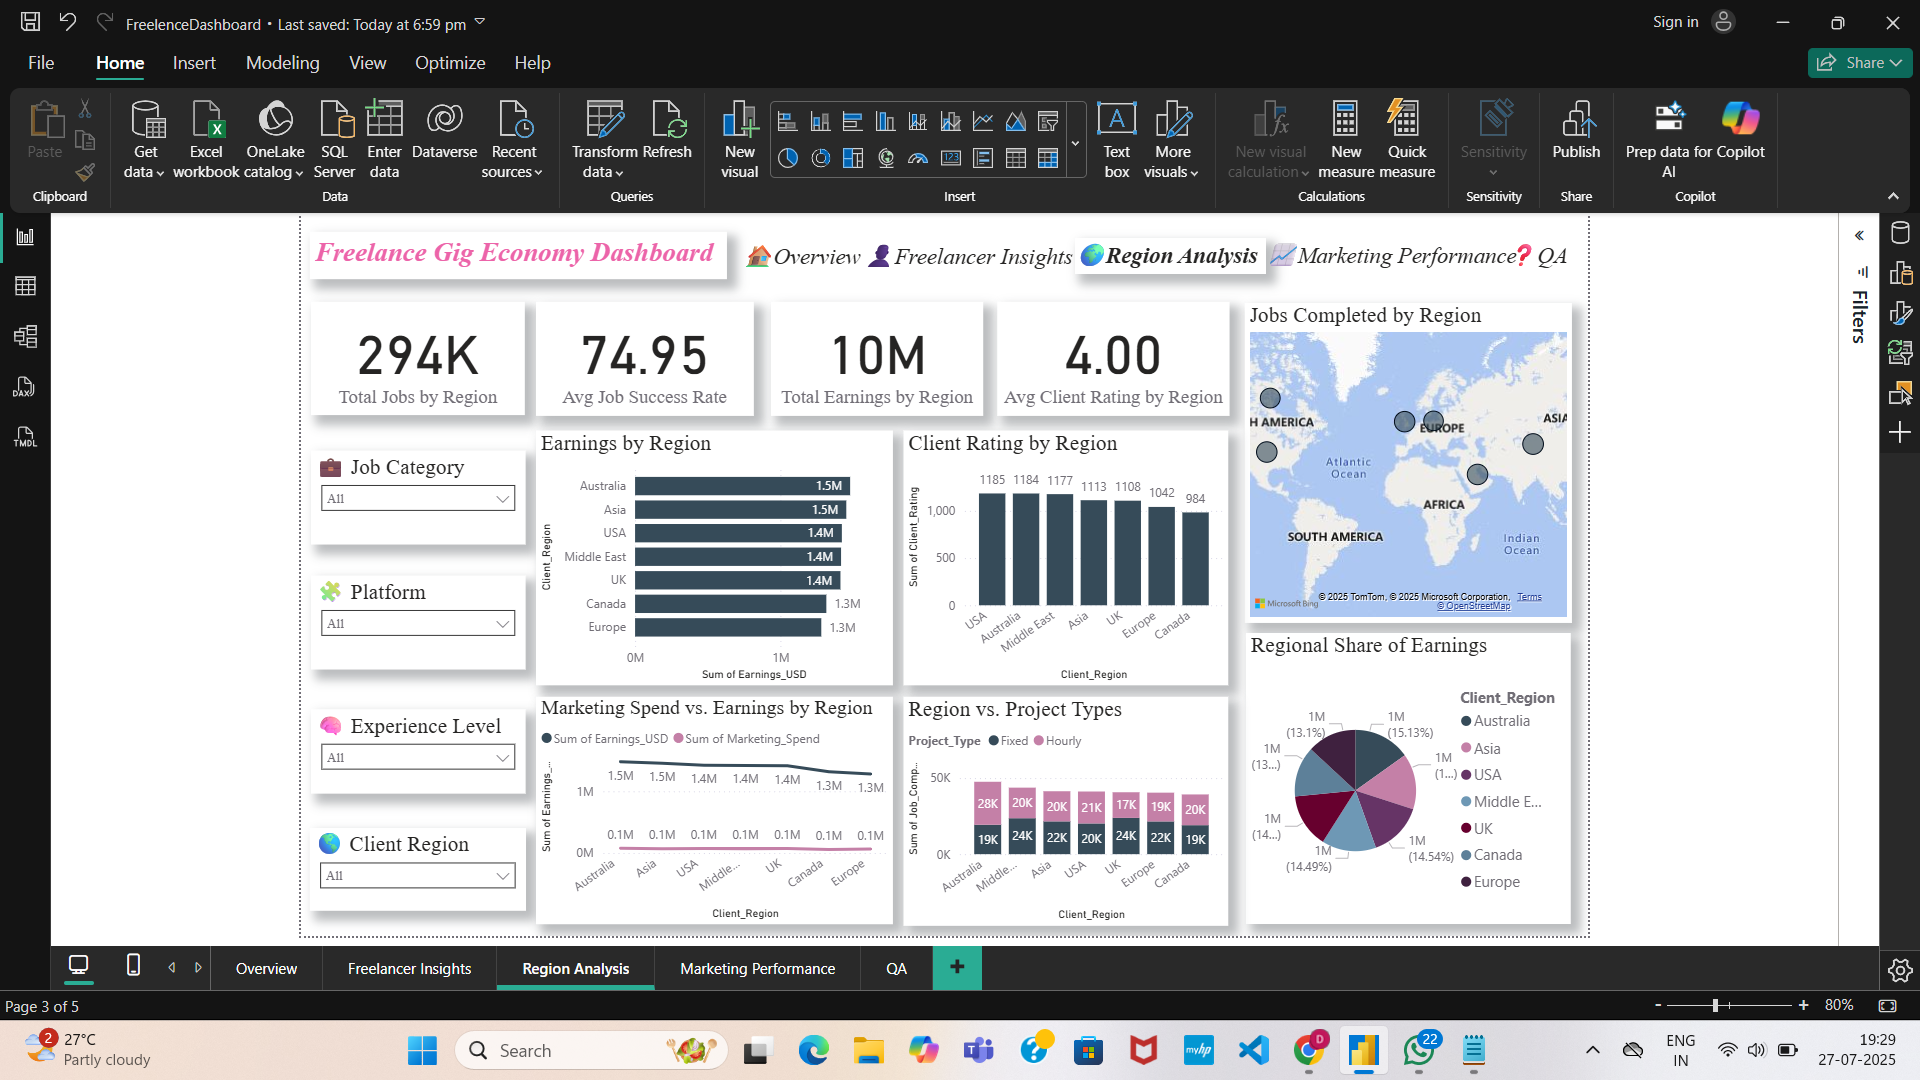

The dashboard page shown, as its layout file describes it:
{"tool":"powerbi","page":{"name":"Region Analysis","canvas":[1280,720],"ordinal":2},"visuals":[{"type":"slicer","title":"💼 Job Category","fields":{"Values":["freelancer_earnings_bd.Job_Category"]},"box":[10.1,236.6,213.5,93.8],"z":0},{"type":"card","fields":{"Values":["freelancer_earnings_bd.Total Jobs by Region"]},"box":[10,88.6,212.9,112.9],"z":1000},{"type":"slicer","title":"🧩 Platform","fields":{"Values":["freelancer_earnings_bd.Platform"]},"box":[10.1,360.7,213.5,93.8],"z":2000},{"type":"slicer","title":"🧠 Experience Level","fields":{"Values":["freelancer_earnings_bd.Experience_Level"]},"box":[10.1,493.4,213.5,83.7],"z":3000},{"type":"slicer","title":"🌎 Client Region","fields":{"Values":["freelancer_earnings_bd.Client_Region"]},"box":[8.7,611.7,215,82.2],"z":4000},{"type":"card","fields":{"Values":["freelancer_earnings_bd.Avg Job Success Rate"]},"box":[233.9,88.3,216.4,113.2],"z":5000},{"type":"card","fields":{"Values":["freelancer_earnings_bd.Total Earnings by Region"]},"box":[467.7,88.3,211.5,113.2],"z":6000},{"type":"card","fields":{"Values":["freelancer_earnings_bd.Avg Client Rating by Region"]},"box":[692.9,88.3,231.4,113.2],"z":7000},{"type":"map","title":"Jobs Completed by Region","fields":{"Size":["freelancer_earnings_bd.Total Earnings by Region"],"Category":["freelancer_earnings_bd.Client_Region"]},"box":[939.2,89.6,325.9,318.5],"z":8000},{"type":"barChart","title":"Earnings by Region","fields":{"Category":["freelancer_earnings_bd.Client_Region"],"Y":["Sum(freelancer_earnings_bd.Earnings_USD)"]},"box":[233.7,216.4,354.9,253.9],"z":9000},{"type":"columnChart","title":"Client Rating by Region","fields":{"Category":["freelancer_earnings_bd.Client_Region"],"Y":["Sum(freelancer_earnings_bd.Client_Rating)"]},"box":[600.2,216.4,323.2,253.9],"z":10000},{"type":"lineChart","title":"Marketing Spend vs. Earnings by Region","fields":{"Category":["freelancer_earnings_bd.Client_Region"],"Y":["Sum(freelancer_earnings_bd.Earnings_USD)","Sum(freelancer_earnings_bd.Marketing_Spend)"]},"box":[233.7,481.9,354.9,226.5],"z":11000},{"type":"pieChart","title":"Regional Share of Earnings","fields":{"Category":["freelancer_earnings_bd.Client_Region"],"Y":["Sum(freelancer_earnings_bd.Earnings_USD)"]},"box":[940.7,418.4,323.2,290],"z":12000},{"type":"actionButton","title":"🏠Overview","box":[438.6,26,121.2,36.1],"z":13000},{"type":"actionButton","title":"👤Freelancer Insights","box":[559.8,26,210.6,34.6],"z":14000},{"type":"actionButton","title":"🌍Region Analysis","box":[770,24.9,190.3,36.1],"z":15000},{"type":"actionButton","title":"📈Marketing Performance","box":[960.3,24.9,250,34.8],"z":16000},{"type":"actionButton","title":"❓QA","box":[1199.2,24.9,65.9,34.8],"z":17000},{"type":"textbox","box":[8.7,18.7,415.5,47.3],"z":18000},{"type":"columnChart","title":"Region vs. Project Types","fields":{"Category":["freelancer_earnings_bd.Client_Region"],"Series":["freelancer_earnings_bd.Project_Type"],"Y":["Sum(freelancer_earnings_bd.Job_Completed)"]},"box":[599.6,481.4,323.4,227.6],"z":19000}]}

Visuals, with their boxes on the page's 1280x720 design canvas (x1, y1, x2, y2). These are canvas units, not pixel positions in the 1920x1080 screenshot, which may show the page scaled, cropped or inside an application window:
"💼 Job Category" slicer: (x1=10, y1=237, x2=224, y2=330)
card - freelancer_earnings_bd.Total Jobs by Region: (x1=10, y1=89, x2=223, y2=202)
"🧩 Platform" slicer: (x1=10, y1=361, x2=224, y2=454)
"🧠 Experience Level" slicer: (x1=10, y1=493, x2=224, y2=577)
"🌎 Client Region" slicer: (x1=9, y1=612, x2=224, y2=694)
card - freelancer_earnings_bd.Avg Job Success Rate: (x1=234, y1=88, x2=450, y2=202)
card - freelancer_earnings_bd.Total Earnings by Region: (x1=468, y1=88, x2=679, y2=202)
card - freelancer_earnings_bd.Avg Client Rating by Region: (x1=693, y1=88, x2=924, y2=202)
"Jobs Completed by Region" map: (x1=939, y1=90, x2=1265, y2=408)
"Earnings by Region" barChart: (x1=234, y1=216, x2=589, y2=470)
"Client Rating by Region" columnChart: (x1=600, y1=216, x2=923, y2=470)
"Marketing Spend vs. Earnings by Region" lineChart: (x1=234, y1=482, x2=589, y2=708)
"Regional Share of Earnings" pieChart: (x1=941, y1=418, x2=1264, y2=708)
"🏠Overview" actionButton: (x1=439, y1=26, x2=560, y2=62)
"👤Freelancer Insights" actionButton: (x1=560, y1=26, x2=770, y2=61)
"🌍Region Analysis" actionButton: (x1=770, y1=25, x2=960, y2=61)
"📈Marketing Performance" actionButton: (x1=960, y1=25, x2=1210, y2=60)
"❓QA" actionButton: (x1=1199, y1=25, x2=1265, y2=60)
textbox: (x1=9, y1=19, x2=424, y2=66)
"Region vs. Project Types" columnChart: (x1=600, y1=481, x2=923, y2=709)
